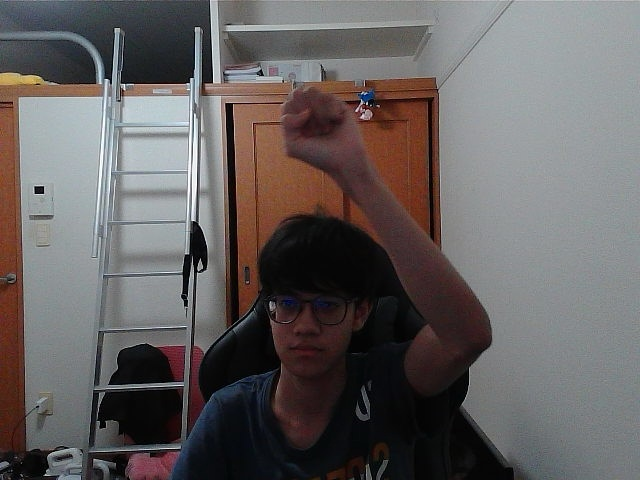closed_palm: (291, 99, 343, 155)
